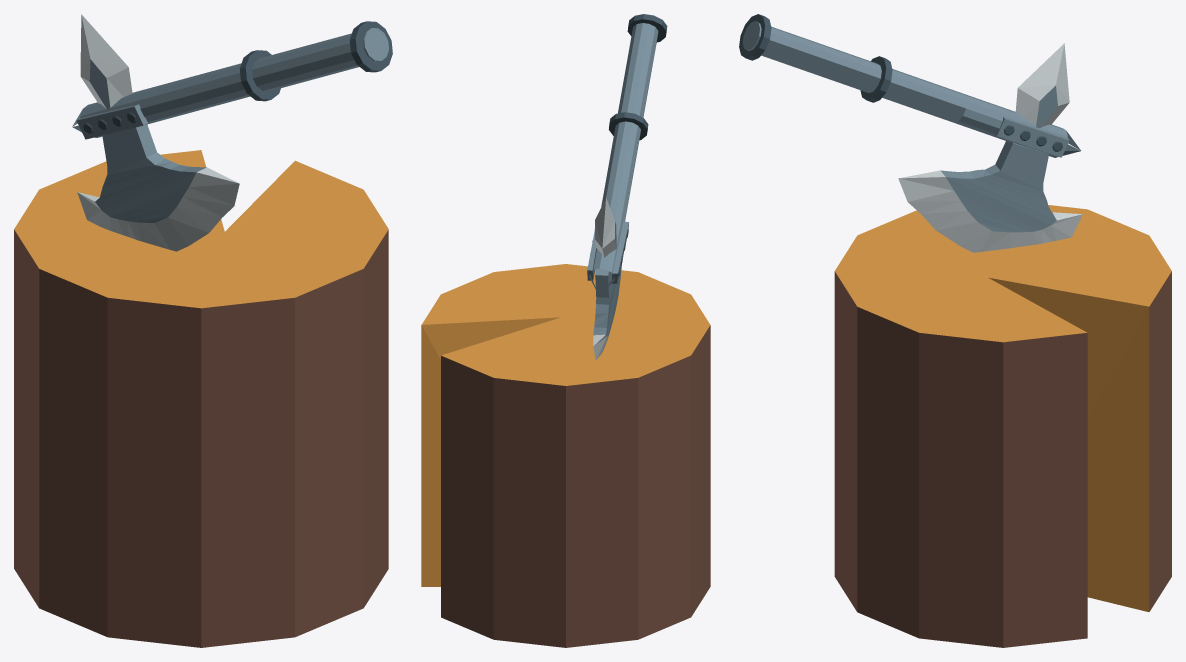
The model's file is axe.glb.
3 renders of one model, left to right at view 1: azimuth 30°, elevation 25°; view 2: azimuth 150°, elevation 25°; view 3: azimuth 270°, elevation 25°, orthographic. The views are drawn at different scales.
Visible parts, largest first — view 1: Node; view 2: Node; view 3: Node.
Part boxes in pixels (x1,y1,x2,y2): Node: (14,14,392,647); Node: (421,14,710,647); Node: (739,14,1171,647).
Size of the model in its own units: 0.87 by 1.63 by 1.12.
